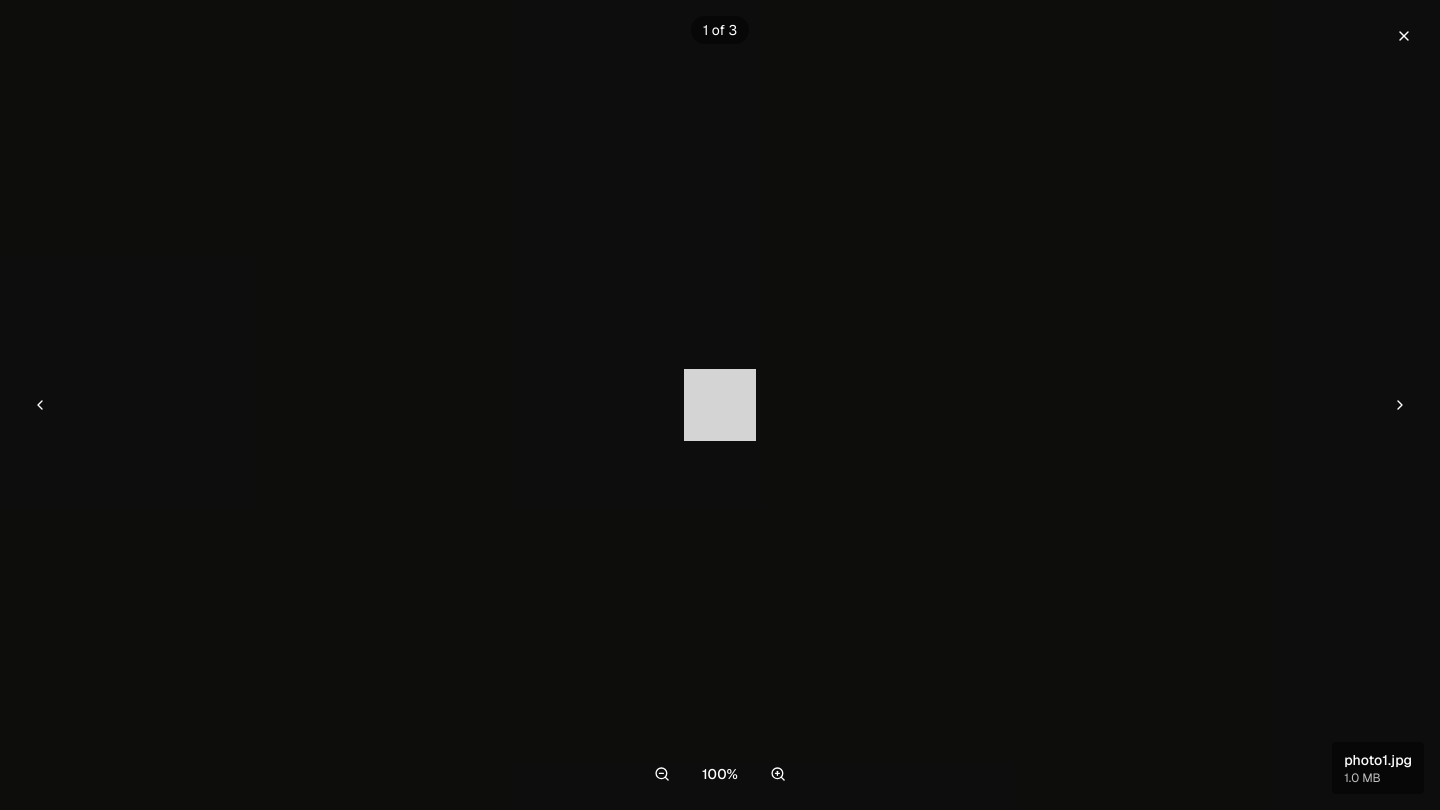
Test: PhotoLightbox › Navigation Controls › navigates to next photo when next button is clicked
Click the button named "Next photo" at (1400, 405), box [1376, 381, 1424, 429]
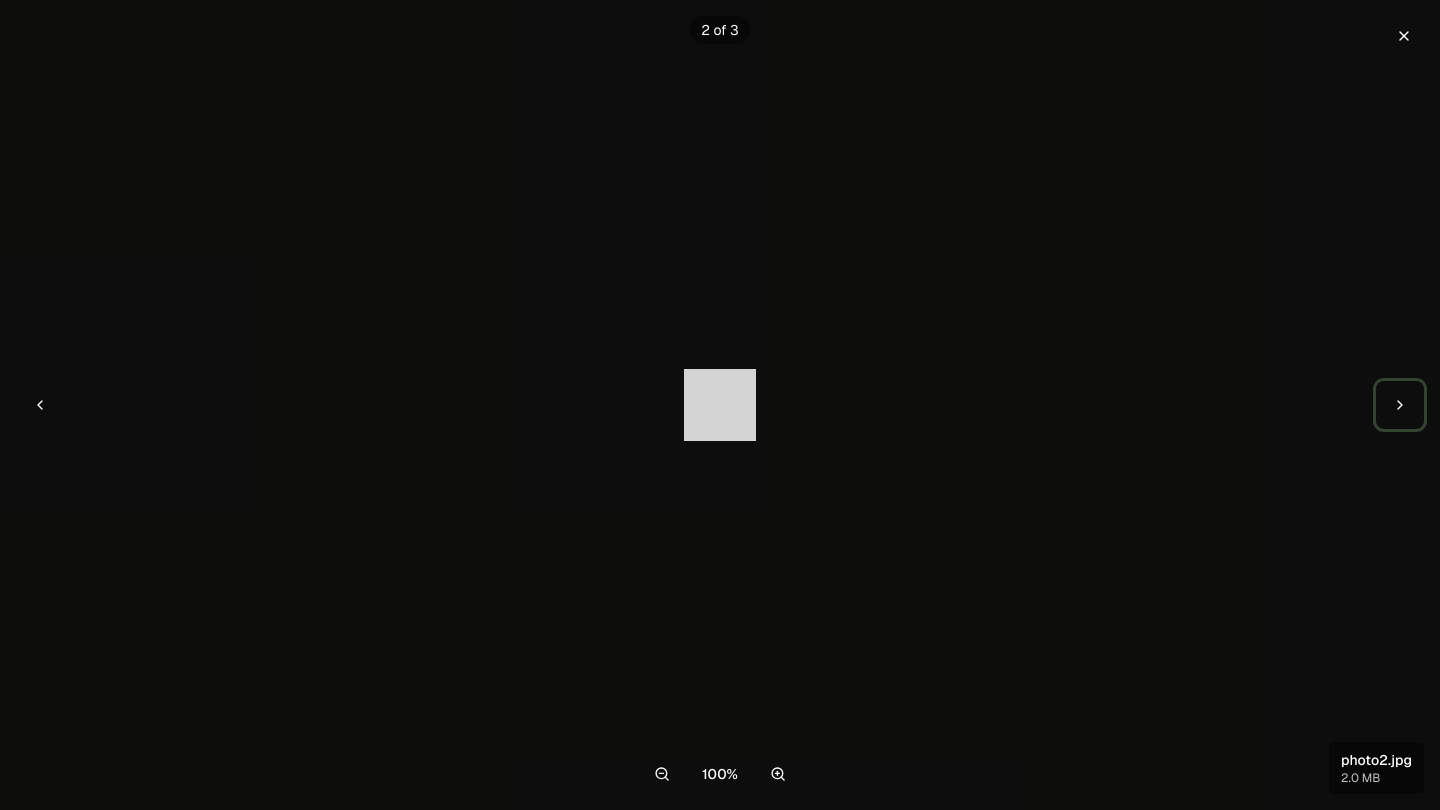
Expected: the text "2 of 3" is shown, [689, 16, 751, 44]
